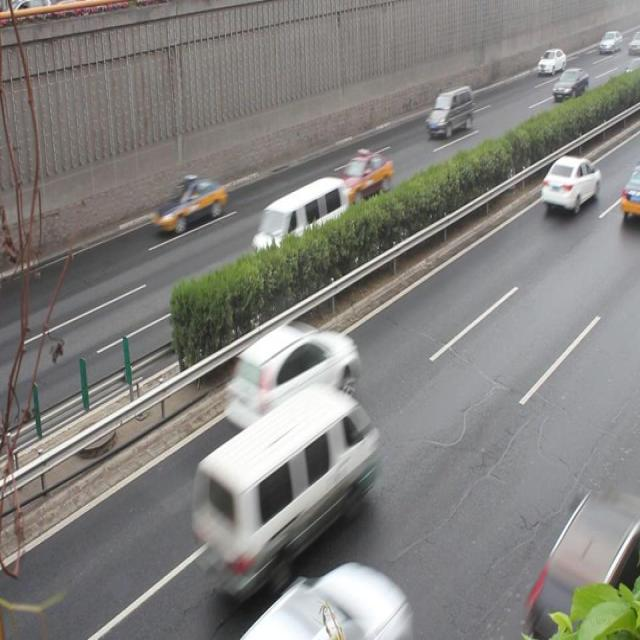car: (225, 324, 358, 433), (152, 174, 228, 237), (333, 149, 392, 208), (538, 154, 598, 212), (551, 66, 586, 105), (618, 170, 640, 226)
truck: (189, 388, 373, 584), (250, 177, 348, 265), (424, 84, 472, 138)
